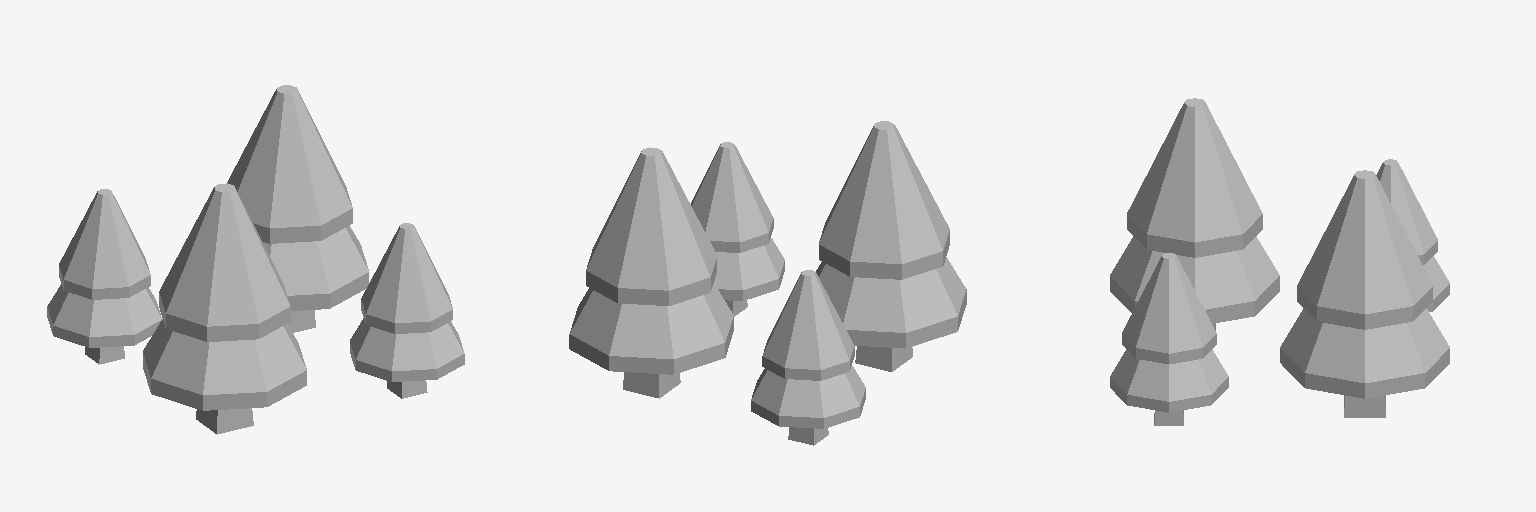
File: TreeQuadFlatTile.obj
The picture shows the model from 3 angles: view 1: azimuth 30°, elevation 25°; view 2: azimuth 150°, elevation 25°; view 3: azimuth 270°, elevation 25°; orthographic projection.
Parts seen in each view (by area): view 1: tree.002; view 2: tree.002; view 3: tree.002.
Boxes of the visible parts, x1,y1,x2,y2 form: tree.002: [47, 85, 464, 434]; tree.002: [569, 121, 966, 445]; tree.002: [1110, 98, 1449, 425].
Bounding box in the file's own units: 1 × 0.76 × 1.